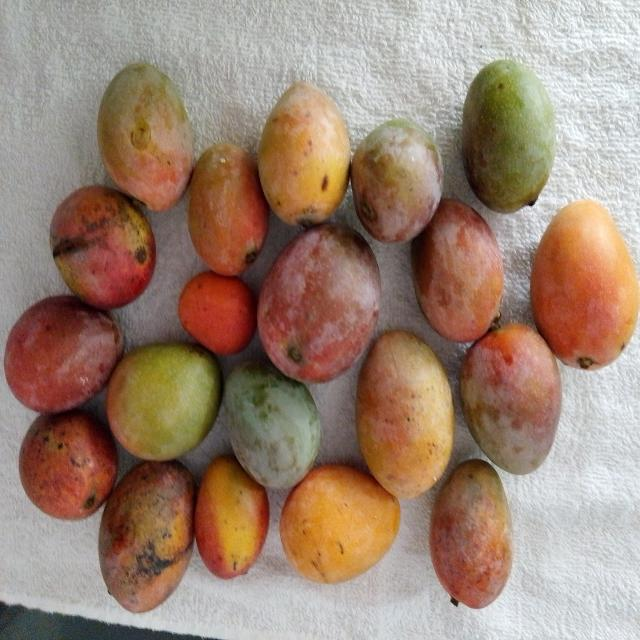mango: (256, 226, 380, 380), (531, 201, 639, 369), (459, 318, 565, 475), (356, 331, 454, 498), (408, 195, 508, 344), (99, 461, 195, 612), (98, 63, 194, 211), (280, 465, 400, 583), (3, 297, 126, 412), (462, 60, 555, 212), (46, 184, 158, 310), (107, 343, 222, 460), (258, 82, 350, 225), (224, 362, 321, 488), (430, 460, 512, 608), (351, 120, 443, 242), (190, 139, 268, 273), (195, 456, 269, 578)
